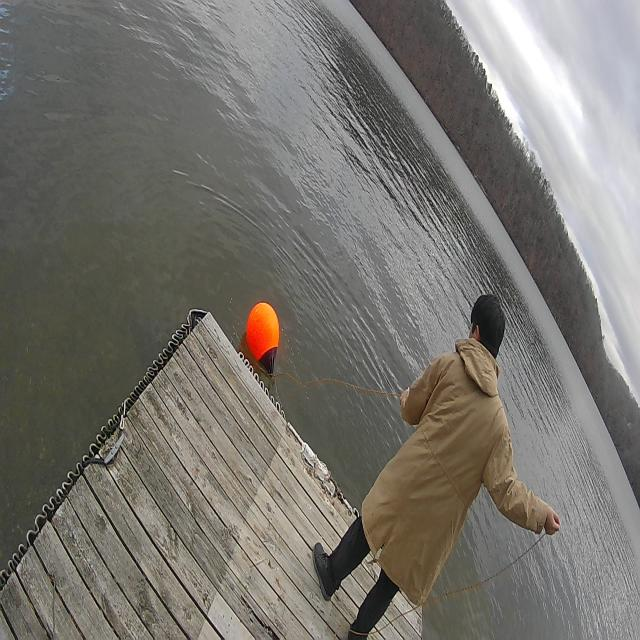Buoy: (240, 290, 286, 386)
